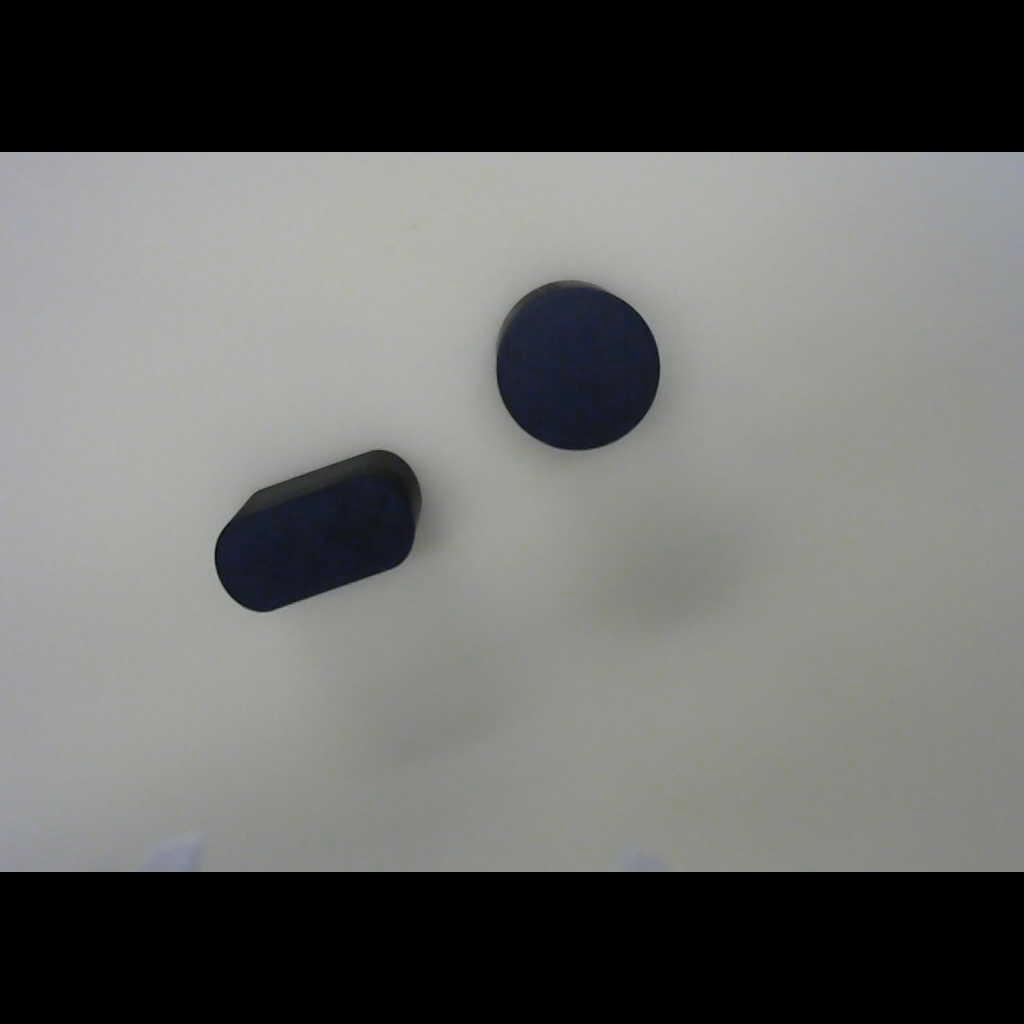circle: (493, 275, 661, 451)
oval: (191, 434, 447, 634)
